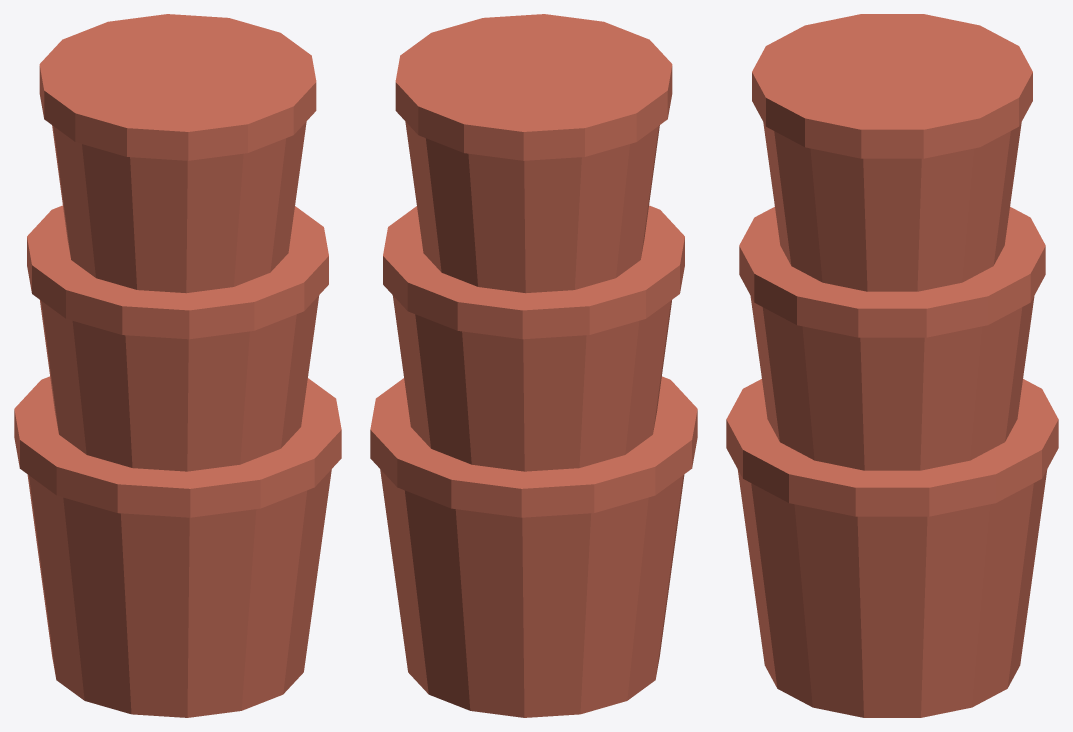
Rendered from hh_flower_pots.glb.
3 views of the same model, side by side, from view 1: azimuth 30°, elevation 25°; view 2: azimuth 150°, elevation 25°; view 3: azimuth 270°, elevation 25° (orthographic).
Visible parts, largest first — view 1: pot, pot.001, rim.002, pot.002, rim, rim.001; view 2: pot, pot.001, rim.002, pot.002, rim, rim.001; view 3: pot, pot.001, rim.002, pot.002, rim, rim.001.
Part boxes in pixels (x1=…): pot: x1=27, y1=469, x2=331, y2=717; pot.001: x1=40, y1=295, x2=319, y2=471; rim.002: x1=39, y1=14, x2=316, y2=160; pot.002: x1=52, y1=121, x2=306, y2=293; rim: x1=14, y1=376, x2=341, y2=517; rim.001: x1=27, y1=205, x2=328, y2=339; pot: x1=380, y1=469, x2=684, y2=717; pot.001: x1=392, y1=295, x2=671, y2=471; rim.002: x1=395, y1=14, x2=672, y2=160; pot.002: x1=405, y1=121, x2=659, y2=293; rim: x1=370, y1=376, x2=697, y2=517; rim.001: x1=383, y1=205, x2=684, y2=339; pot: x1=737, y1=469, x2=1047, y2=717; pot.001: x1=750, y1=296, x2=1034, y2=470; rim.002: x1=752, y1=14, x2=1032, y2=158; pot.002: x1=763, y1=122, x2=1021, y2=291; rim: x1=726, y1=379, x2=1058, y2=516; rim.001: x1=739, y1=206, x2=1045, y2=337.
Size of the model in its own units: 0.2028 by 0.41 by 0.208.
